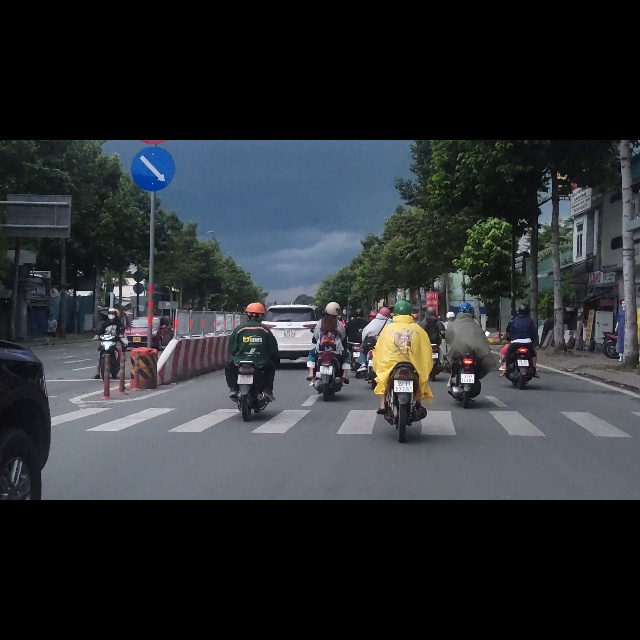bien_hieu_lenh: (131, 9, 175, 90)
